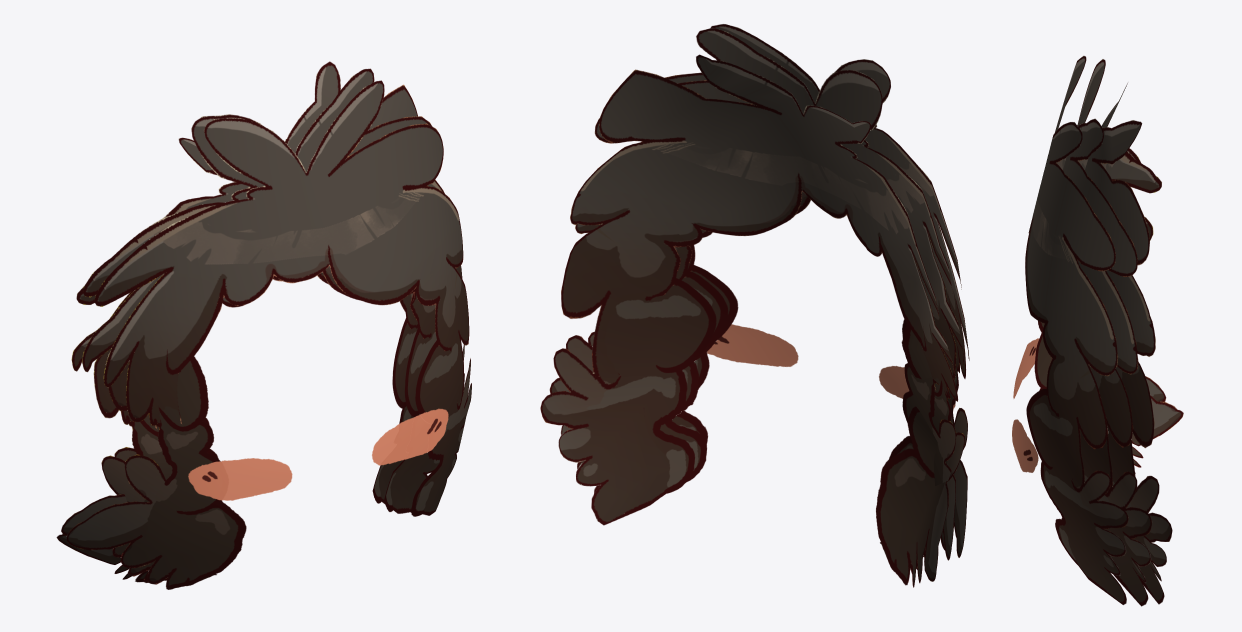
Rendered from Filter04 old.glb.
3 renders of one model, left to right at view 1: azimuth 30°, elevation 25°; view 2: azimuth 150°, elevation 25°; view 3: azimuth 270°, elevation 25°, orthographic. The views are drawn at different scales.
Visible parts, largest first — view 1: Filter04; view 2: Filter04; view 3: Filter04.
Boxes of the visible parts, x1,y1,x2,y2 form: Filter04: (56,61,471,589); Filter04: (540,24,969,587); Filter04: (1012,55,1183,606).
Bounding box in the file's own units: 0.2316 × 0.2736 × 0.1119.
1 material, 1 textured.
